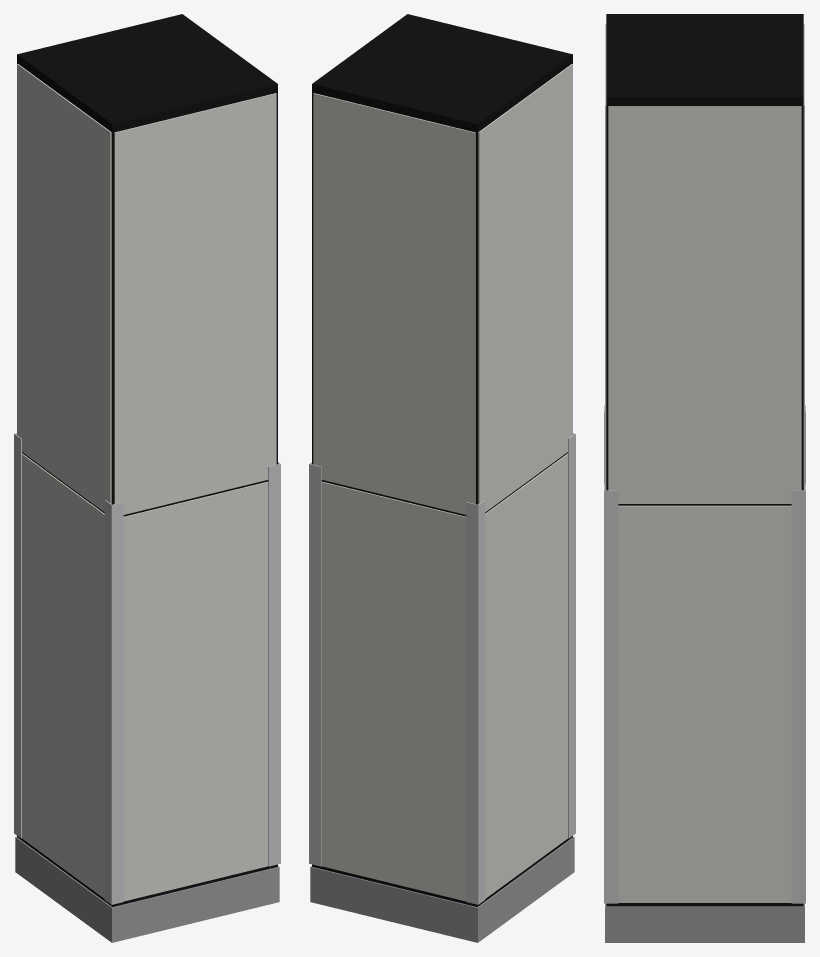
Rendered from gteki_column_sleeve_600x600_h2800.glb.
3 views of the same model, side by side, from view 1: azimuth 30°, elevation 25°; view 2: azimuth 150°, elevation 25°; view 3: azimuth 270°, elevation 25° (orthographic). The views are drawn at different scales.
Parts seen in each view (by area): view 1: VIS_body; view 2: VIS_body; view 3: VIS_body.
Part boxes in pixels (x1=…): VIS_body: x1=14, y1=14, x2=280, y2=942; VIS_body: x1=309, y1=14, x2=575, y2=942; VIS_body: x1=604, y1=14, x2=805, y2=942.
Bounding box in the file's own units: 0.606 × 2.8 × 0.606.
Materials: 1 (1 with a texture image).
